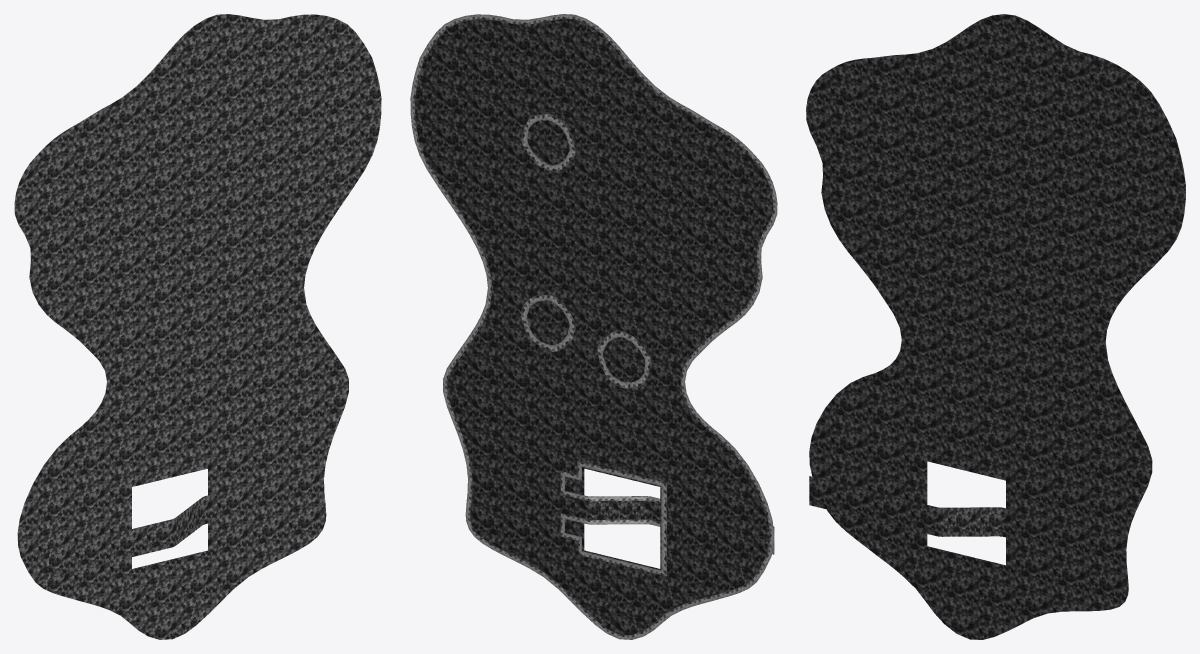
File: PoisonSwamp000.obj
3 views of the same model, side by side, from view 1: azimuth 30°, elevation 25°; view 2: azimuth 150°, elevation 25°; view 3: azimuth 330°, elevation 25° (orthographic). The views are drawn at different scales.
Visible parts, largest first — view 1: pPlane28__GroundPoisonPurple00_rep; view 2: pPlane28__GroundPoisonPurple00_rep, pPlane691__PoisonBaseEdgeOnlyMT; view 3: pPlane28__GroundPoisonPurple00_rep.
Boxes of the visible parts, <box> form: pPlane28__GroundPoisonPurple00_rep: <box>14,14,381,639</box>; pPlane28__GroundPoisonPurple00_rep: <box>415,19,774,634</box>; pPlane691__PoisonBaseEdgeOnlyMT: <box>410,14,777,639</box>; pPlane28__GroundPoisonPurple00_rep: <box>806,14,1185,639</box>.
Size of the model in its own units: 8202 by 13108 by 603.
Materials: 3 (2 with a texture image).
